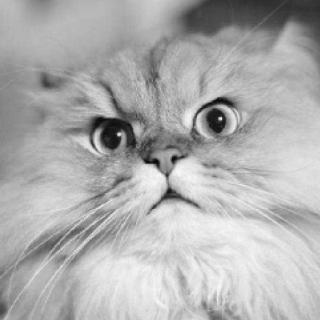cat: (27, 28, 300, 264)
nose: (140, 132, 190, 184)
